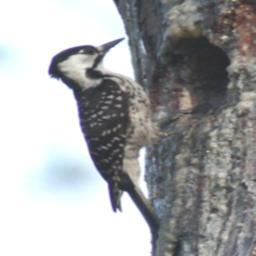Woodpecker: (45, 34, 208, 234)
